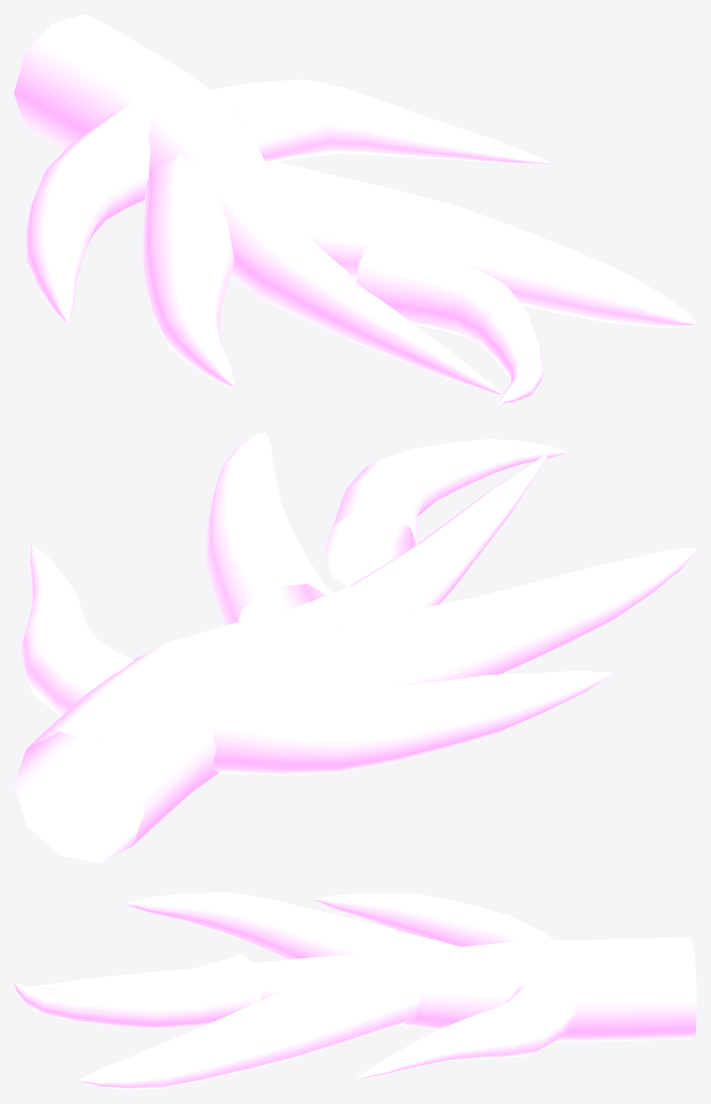
The model's file is CoralOrganicPink_v07.glb.
3 renders of one model, top to bottom at view 1: azimuth 30°, elevation 25°; view 2: azimuth 150°, elevation 25°; view 3: azimuth 270°, elevation 25°, orthographic. The views are drawn at different scales.
Visible parts, largest first — view 1: CoralOrganicPink; view 2: CoralOrganicPink; view 3: CoralOrganicPink.
Part boxes in pixels (x1=…): CoralOrganicPink: x1=14, y1=14, x2=696, y2=403; CoralOrganicPink: x1=14, y1=432, x2=696, y2=863; CoralOrganicPink: x1=14, y1=892, x2=696, y2=1089.
Size of the model in its own units: 105 by 22.97 by 159.
